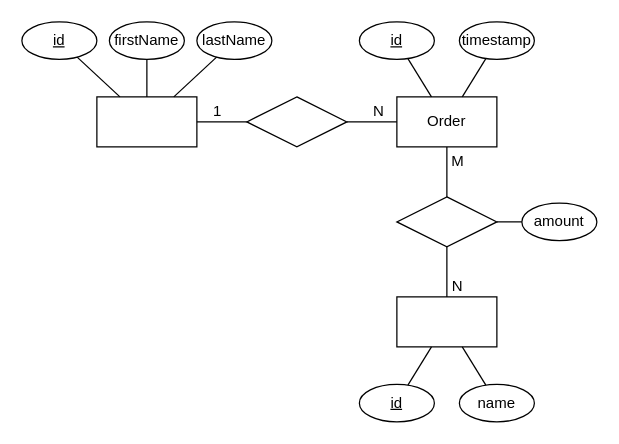
The diagram is 619 pixels wide and 444 high, and some of its shapes have lost their labels. The centre of each missing label's shape, as x and y in pixels:
"Article" belongs at point 446,321.
"contains" belongs at point 446,221.
"Customer" belongs at point 146,121.
"places" belongs at point 296,121.
